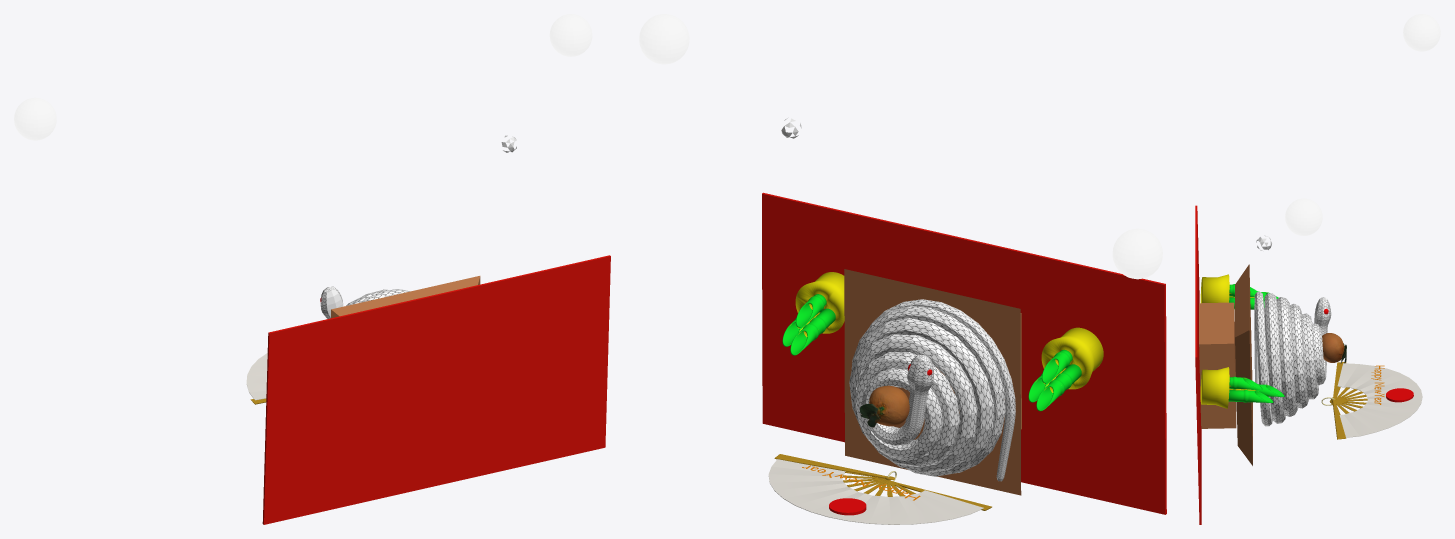
File: snake.glb
3 views of the same model, side by side, from view 1: azimuth 30°, elevation 25°; view 2: azimuth 150°, elevation 25°; view 3: azimuth 270°, elevation 25° (orthographic). The views are drawn at different scales.
Parts seen in each view (by area): view 1: 立方体.002, 球.005, 球.004, 立方体.001, Cube, Body; view 2: 立方体.002, Cube, 立方体.001, Body, kado1, kado1.002, 球.004, 球.005, high_poly; view 3: Cube, Body, 立方体, 立方体.001, kado1.002, 立方体.002, 球.004, 球.005, kado1, high_poly, 円柱.
Part boxes in pixels (bbox=[...]): 立方体.002: bbox=[262, 255, 610, 524]; 球.005: bbox=[14, 97, 56, 140]; 球.004: bbox=[549, 14, 592, 56]; 立方体.001: bbox=[331, 276, 480, 318]; Cube: bbox=[320, 286, 409, 318]; Body: bbox=[246, 353, 267, 404]; 立方体.002: bbox=[762, 192, 1166, 514]; Cube: bbox=[849, 299, 1015, 481]; 立方体.001: bbox=[844, 269, 1021, 495]; Body: bbox=[768, 454, 991, 524]; kado1: bbox=[1028, 327, 1103, 411]; kado1.002: bbox=[782, 272, 844, 355]; 球.004: bbox=[639, 14, 689, 64]; 球.005: bbox=[1112, 228, 1162, 279]; high_poly: bbox=[859, 385, 909, 427]; Cube: bbox=[1254, 291, 1331, 426]; Body: bbox=[1321, 362, 1422, 439]; 立方体: bbox=[1199, 302, 1236, 428]; 立方体.001: bbox=[1235, 264, 1252, 465]; kado1.002: bbox=[1200, 367, 1284, 408]; 立方体.002: bbox=[1195, 205, 1201, 524]; 球.004: bbox=[1285, 198, 1322, 235]; 球.005: bbox=[1403, 14, 1440, 51]; kado1: bbox=[1200, 274, 1278, 309]; high_poly: bbox=[1322, 333, 1346, 363]; 円柱: bbox=[1386, 388, 1413, 402].
Size of the model in its own units: 27.24 by 19.66 by 13.04.
Materials: 19 (3 with a texture image).
